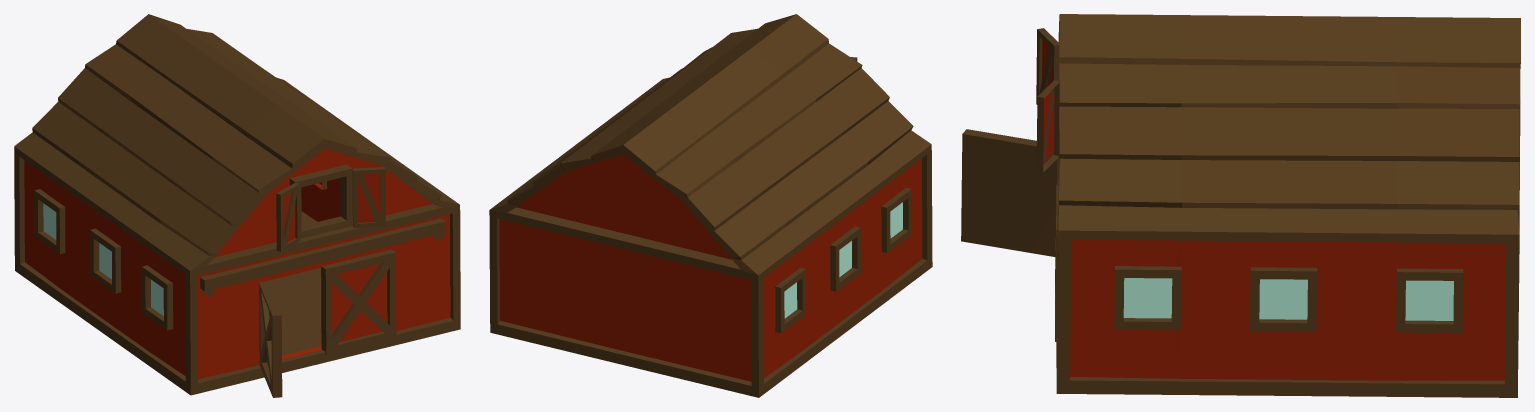
Rendered from barn.glb.
3 views of the same model, side by side, from view 1: azimuth 30°, elevation 25°; view 2: azimuth 150°, elevation 25°; view 3: azimuth 270°, elevation 25° (orthographic). The views are drawn at different scales.
Parts seen in each view (by area): view 1: ambar; view 2: ambar; view 3: ambar.
Boxes of the visible parts, x1,y1,x2,y2 form: ambar: [14, 14, 460, 397]; ambar: [489, 14, 932, 397]; ambar: [961, 14, 1520, 397].
Bounding box in the file's own units: 8.03 × 6.35 × 10.82.
